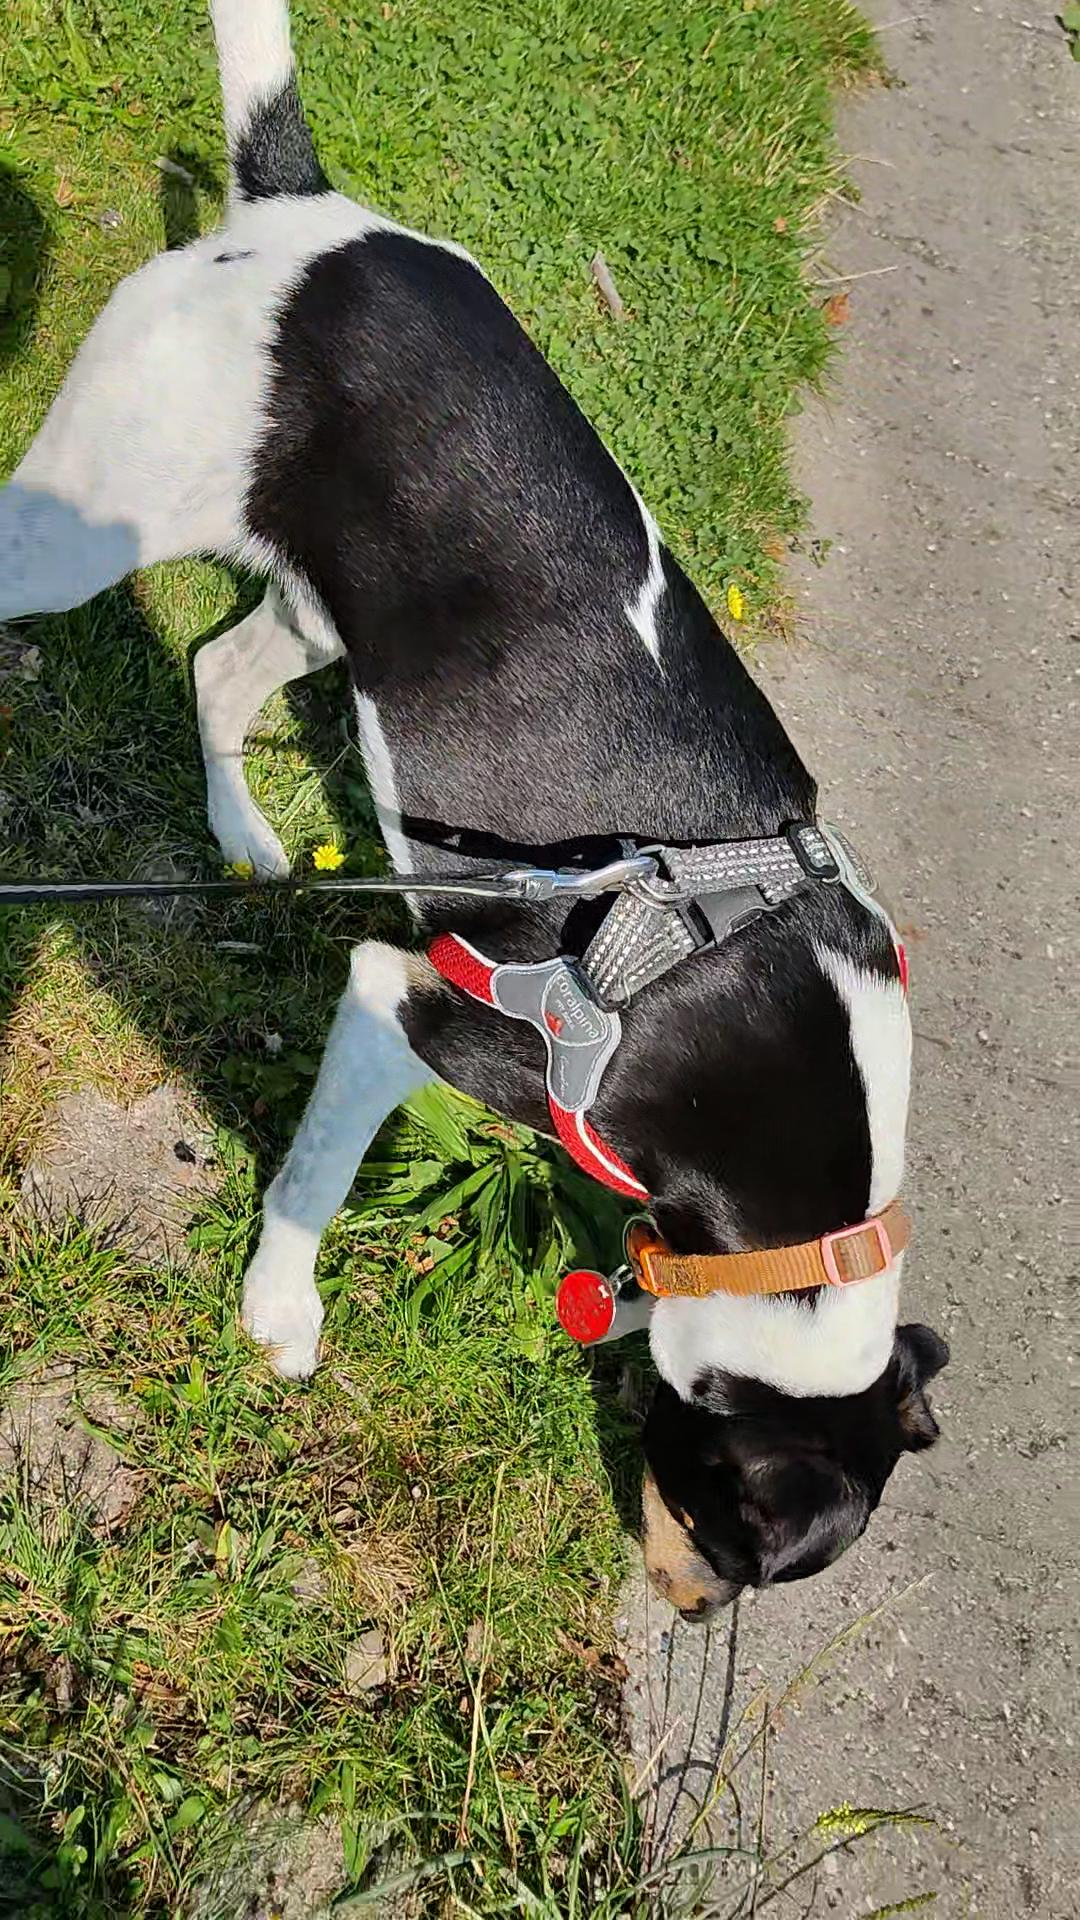Dog: (0, 0, 957, 1638)
